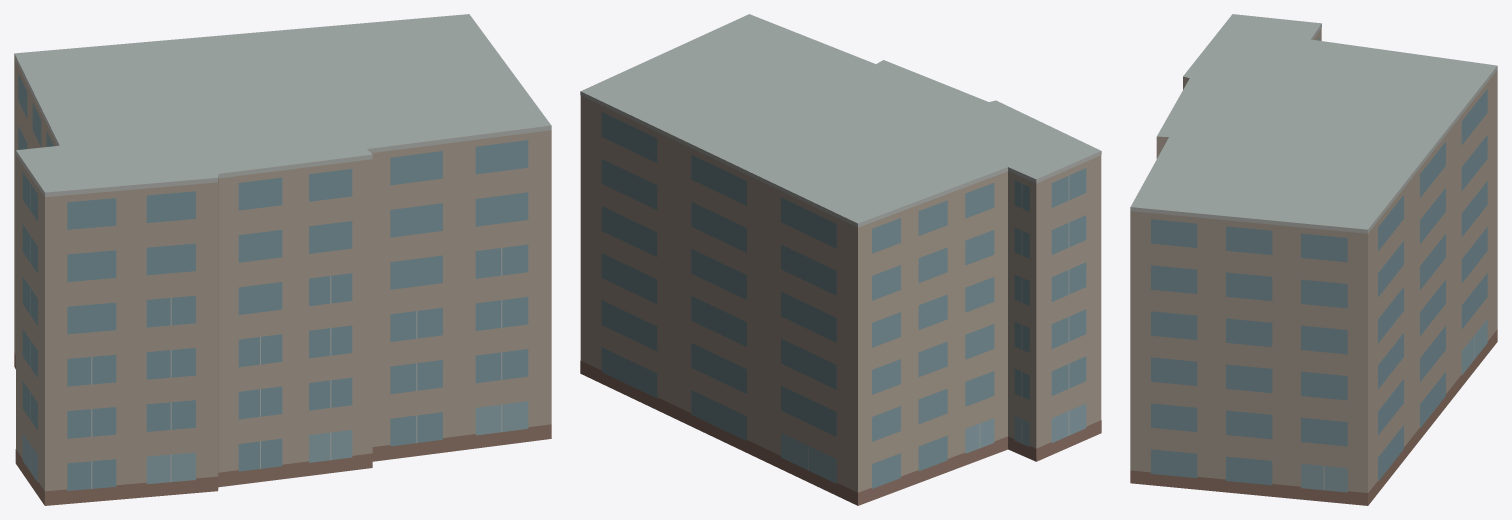
File: survey-upis-32526836.glb
The picture shows the model from 3 angles, left to right: view 1: azimuth 30°, elevation 25°; view 2: azimuth 150°, elevation 25°; view 3: azimuth 270°, elevation 25°; orthographic projection. The views are drawn at different scales.
Parts seen in each view (by area): view 1: survey-upis-32526836.tmp; view 2: survey-upis-32526836.tmp; view 3: survey-upis-32526836.tmp.
Part boxes in pixels (x1,y1,x2,y2): survey-upis-32526836.tmp: (14,14,551,505); survey-upis-32526836.tmp: (580,14,1101,505); survey-upis-32526836.tmp: (1130,14,1497,505).
Bounding box in the file's own units: 27.89 × 16.65 × 20.06.
